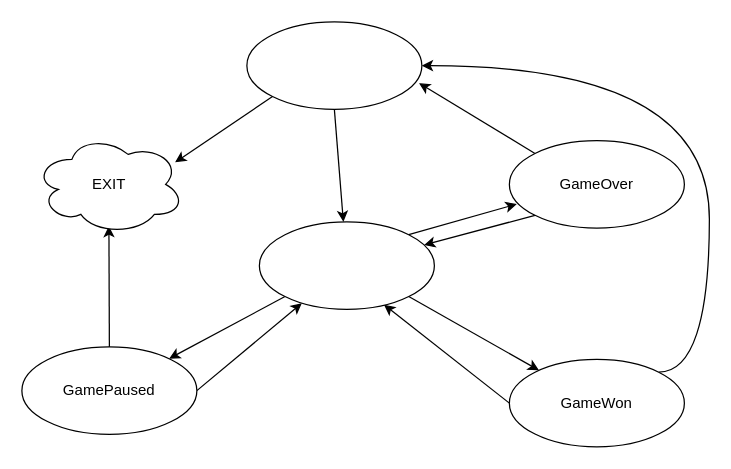
Image size: 731x469. Some labels were removed from this diagram. The shapes that lost their labels are listed below. From the top down, each one's centre as x and y in pixels, then its label:
[334,65]: MainMenu
[346,265]: GameRunning
